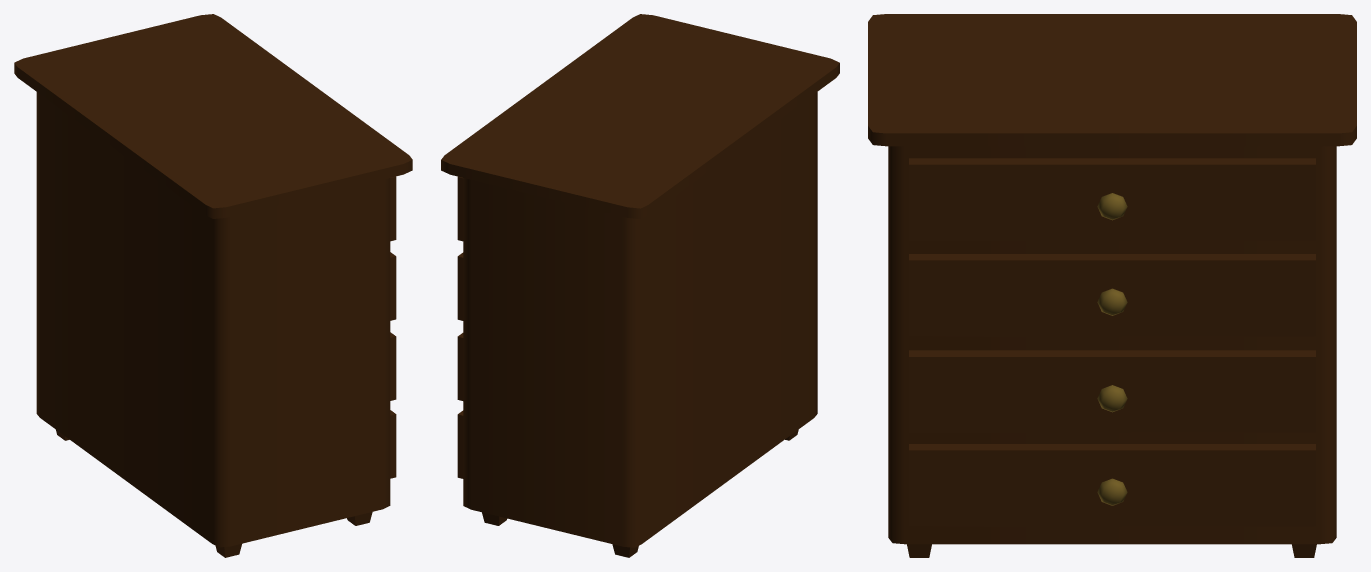
Rendered from Dresser.FBX.
3 views of the same model, side by side, from view 1: azimuth 30°, elevation 25°; view 2: azimuth 150°, elevation 25°; view 3: azimuth 270°, elevation 25° (orthographic). The views are drawn at different scales.
Parts seen in each view (by area): view 1: Dresser; view 2: Dresser; view 3: Dresser.
Boxes of the visible parts, left/top/right/bottom form: Dresser: left=14, top=14, right=412, bottom=557; Dresser: left=441, top=14, right=839, bottom=557; Dresser: left=868, top=14, right=1356, bottom=557.
Bounding box in the file's own units: 19.45 × 32.42 × 32.49.
Materials: 1 (1 with a texture image).
